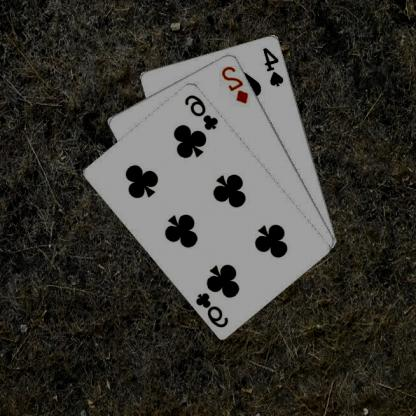2D: (221, 63, 252, 105)
4S: (262, 45, 287, 87)
6C: (194, 289, 232, 329), (184, 92, 221, 131)
